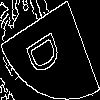D: (25, 24, 68, 79)
